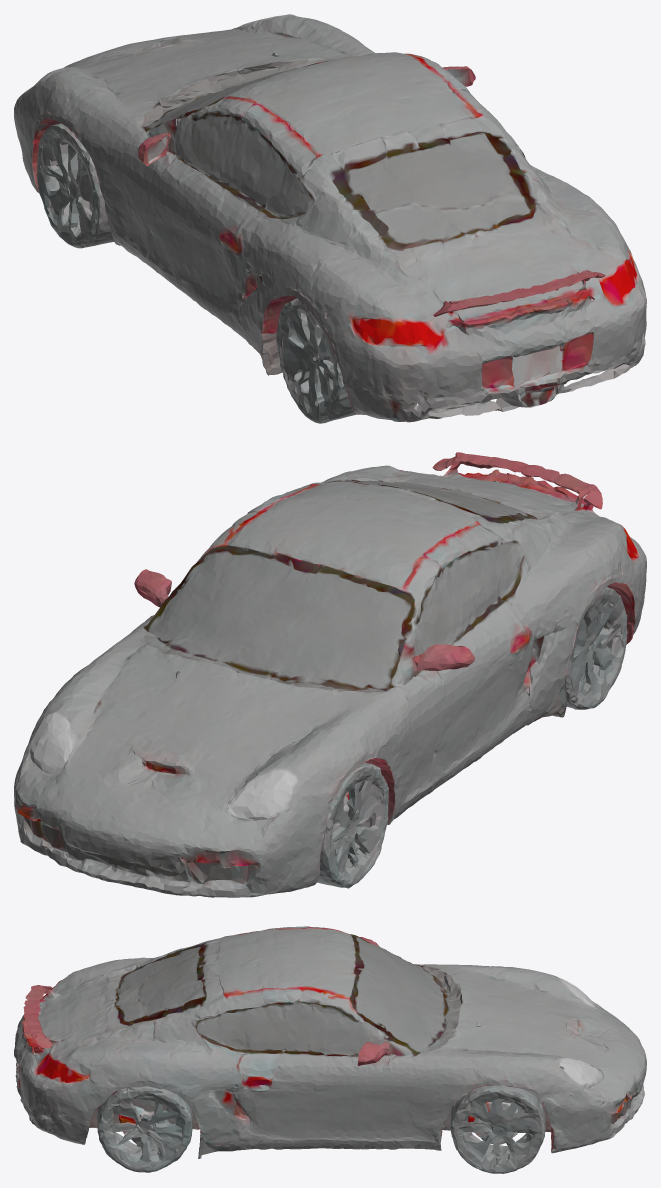
3 renders of one model, top to bottom at view 1: azimuth 30°, elevation 25°; view 2: azimuth 150°, elevation 25°; view 3: azimuth 270°, elevation 25°, orthographic. The views are drawn at different scales.
Visible parts, largest first — view 1: defaultobject; view 2: defaultobject; view 3: defaultobject.
Part boxes in pixels (box(x1,y1,x2,y2)): defaultobject: box(14, 14, 646, 423); defaultobject: box(14, 452, 646, 897); defaultobject: box(14, 926, 646, 1173).
Bounding box in the file's own units: 0.4277 × 0.2815 × 0.949.
